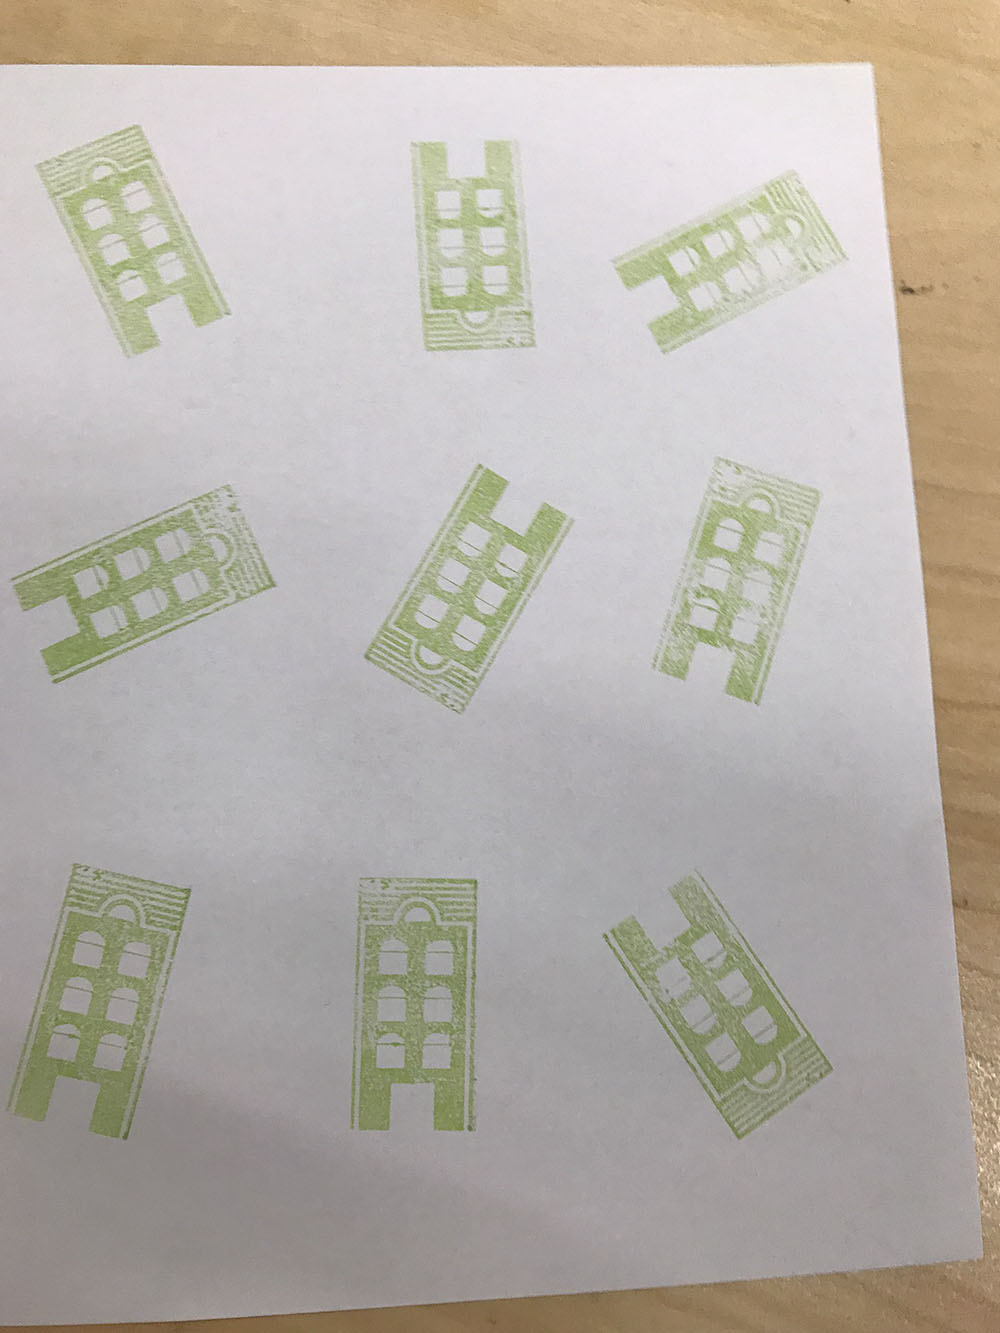build: (572, 843, 860, 1161), (3, 442, 310, 718), (339, 454, 585, 735), (4, 840, 210, 1168), (584, 154, 875, 369), (24, 113, 247, 382), (636, 438, 834, 736), (331, 850, 504, 1164), (392, 118, 556, 378)
